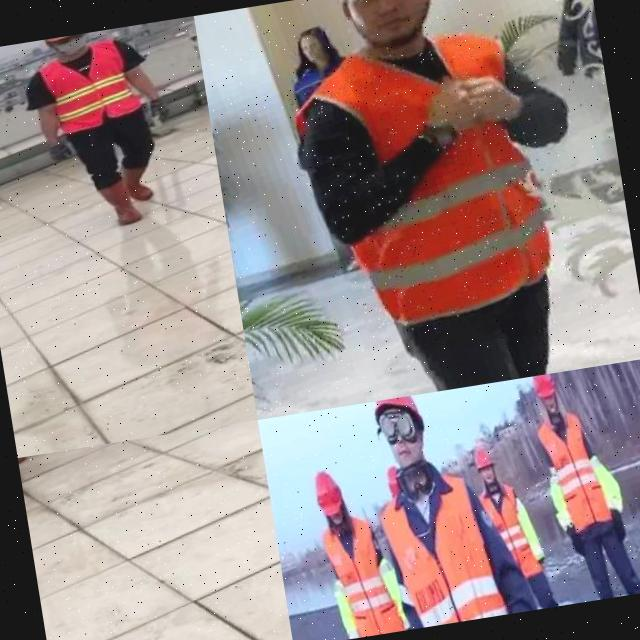boots: (94, 174, 147, 232), (115, 160, 158, 208)
helmet: (362, 394, 426, 436), (304, 464, 348, 518), (34, 32, 94, 50), (526, 373, 558, 404), (468, 441, 496, 474), (382, 462, 404, 492)
vest: (270, 0, 601, 358), (364, 457, 530, 633), (313, 504, 412, 640), (528, 400, 620, 542), (37, 34, 147, 140), (474, 475, 548, 589)
